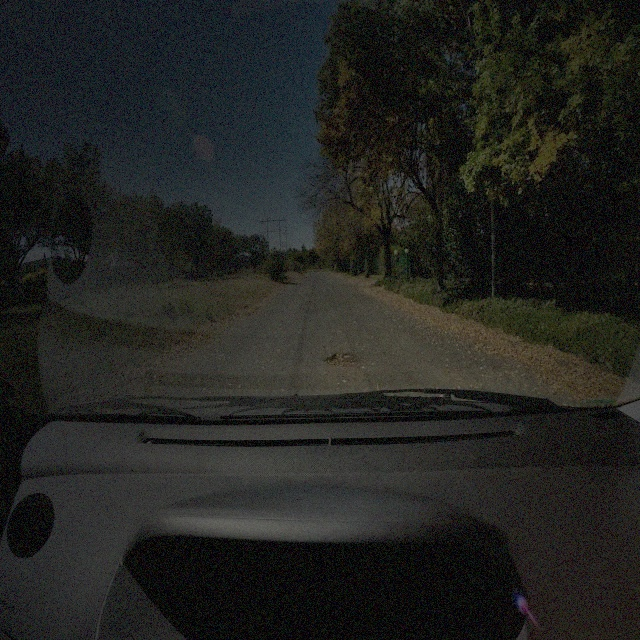pothole: (326, 346, 359, 371)
